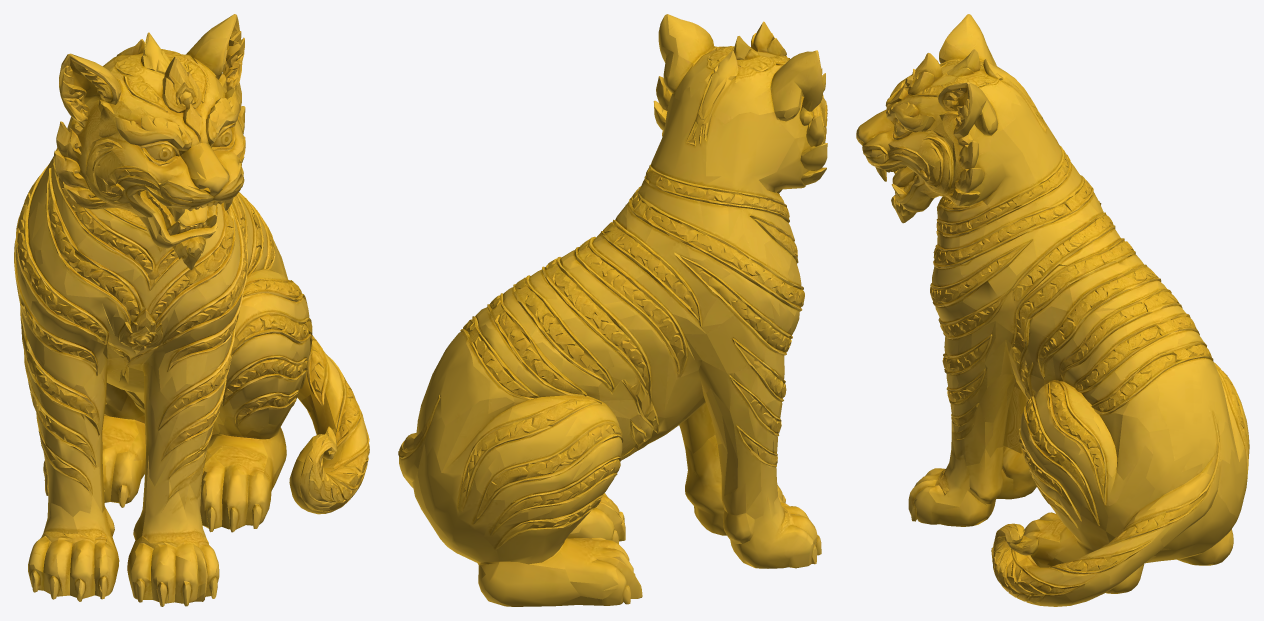
The model's file is mon.glb.
3 views of the same model, side by side, from view 1: azimuth 30°, elevation 25°; view 2: azimuth 150°, elevation 25°; view 3: azimuth 270°, elevation 25° (orthographic). The views are drawn at different scales.
Parts seen in each view (by area): view 1: Mesh_0; view 2: Mesh_0; view 3: Mesh_0.
Boxes of the visible parts, box(x1,y1,x2,y2) form: Mesh_0: box(14, 14, 369, 606); Mesh_0: box(398, 14, 827, 606); Mesh_0: box(856, 14, 1249, 606).
Size of the model in its own units: 1.38 by 1.9 by 1.47.
1 material, 1 textured.
